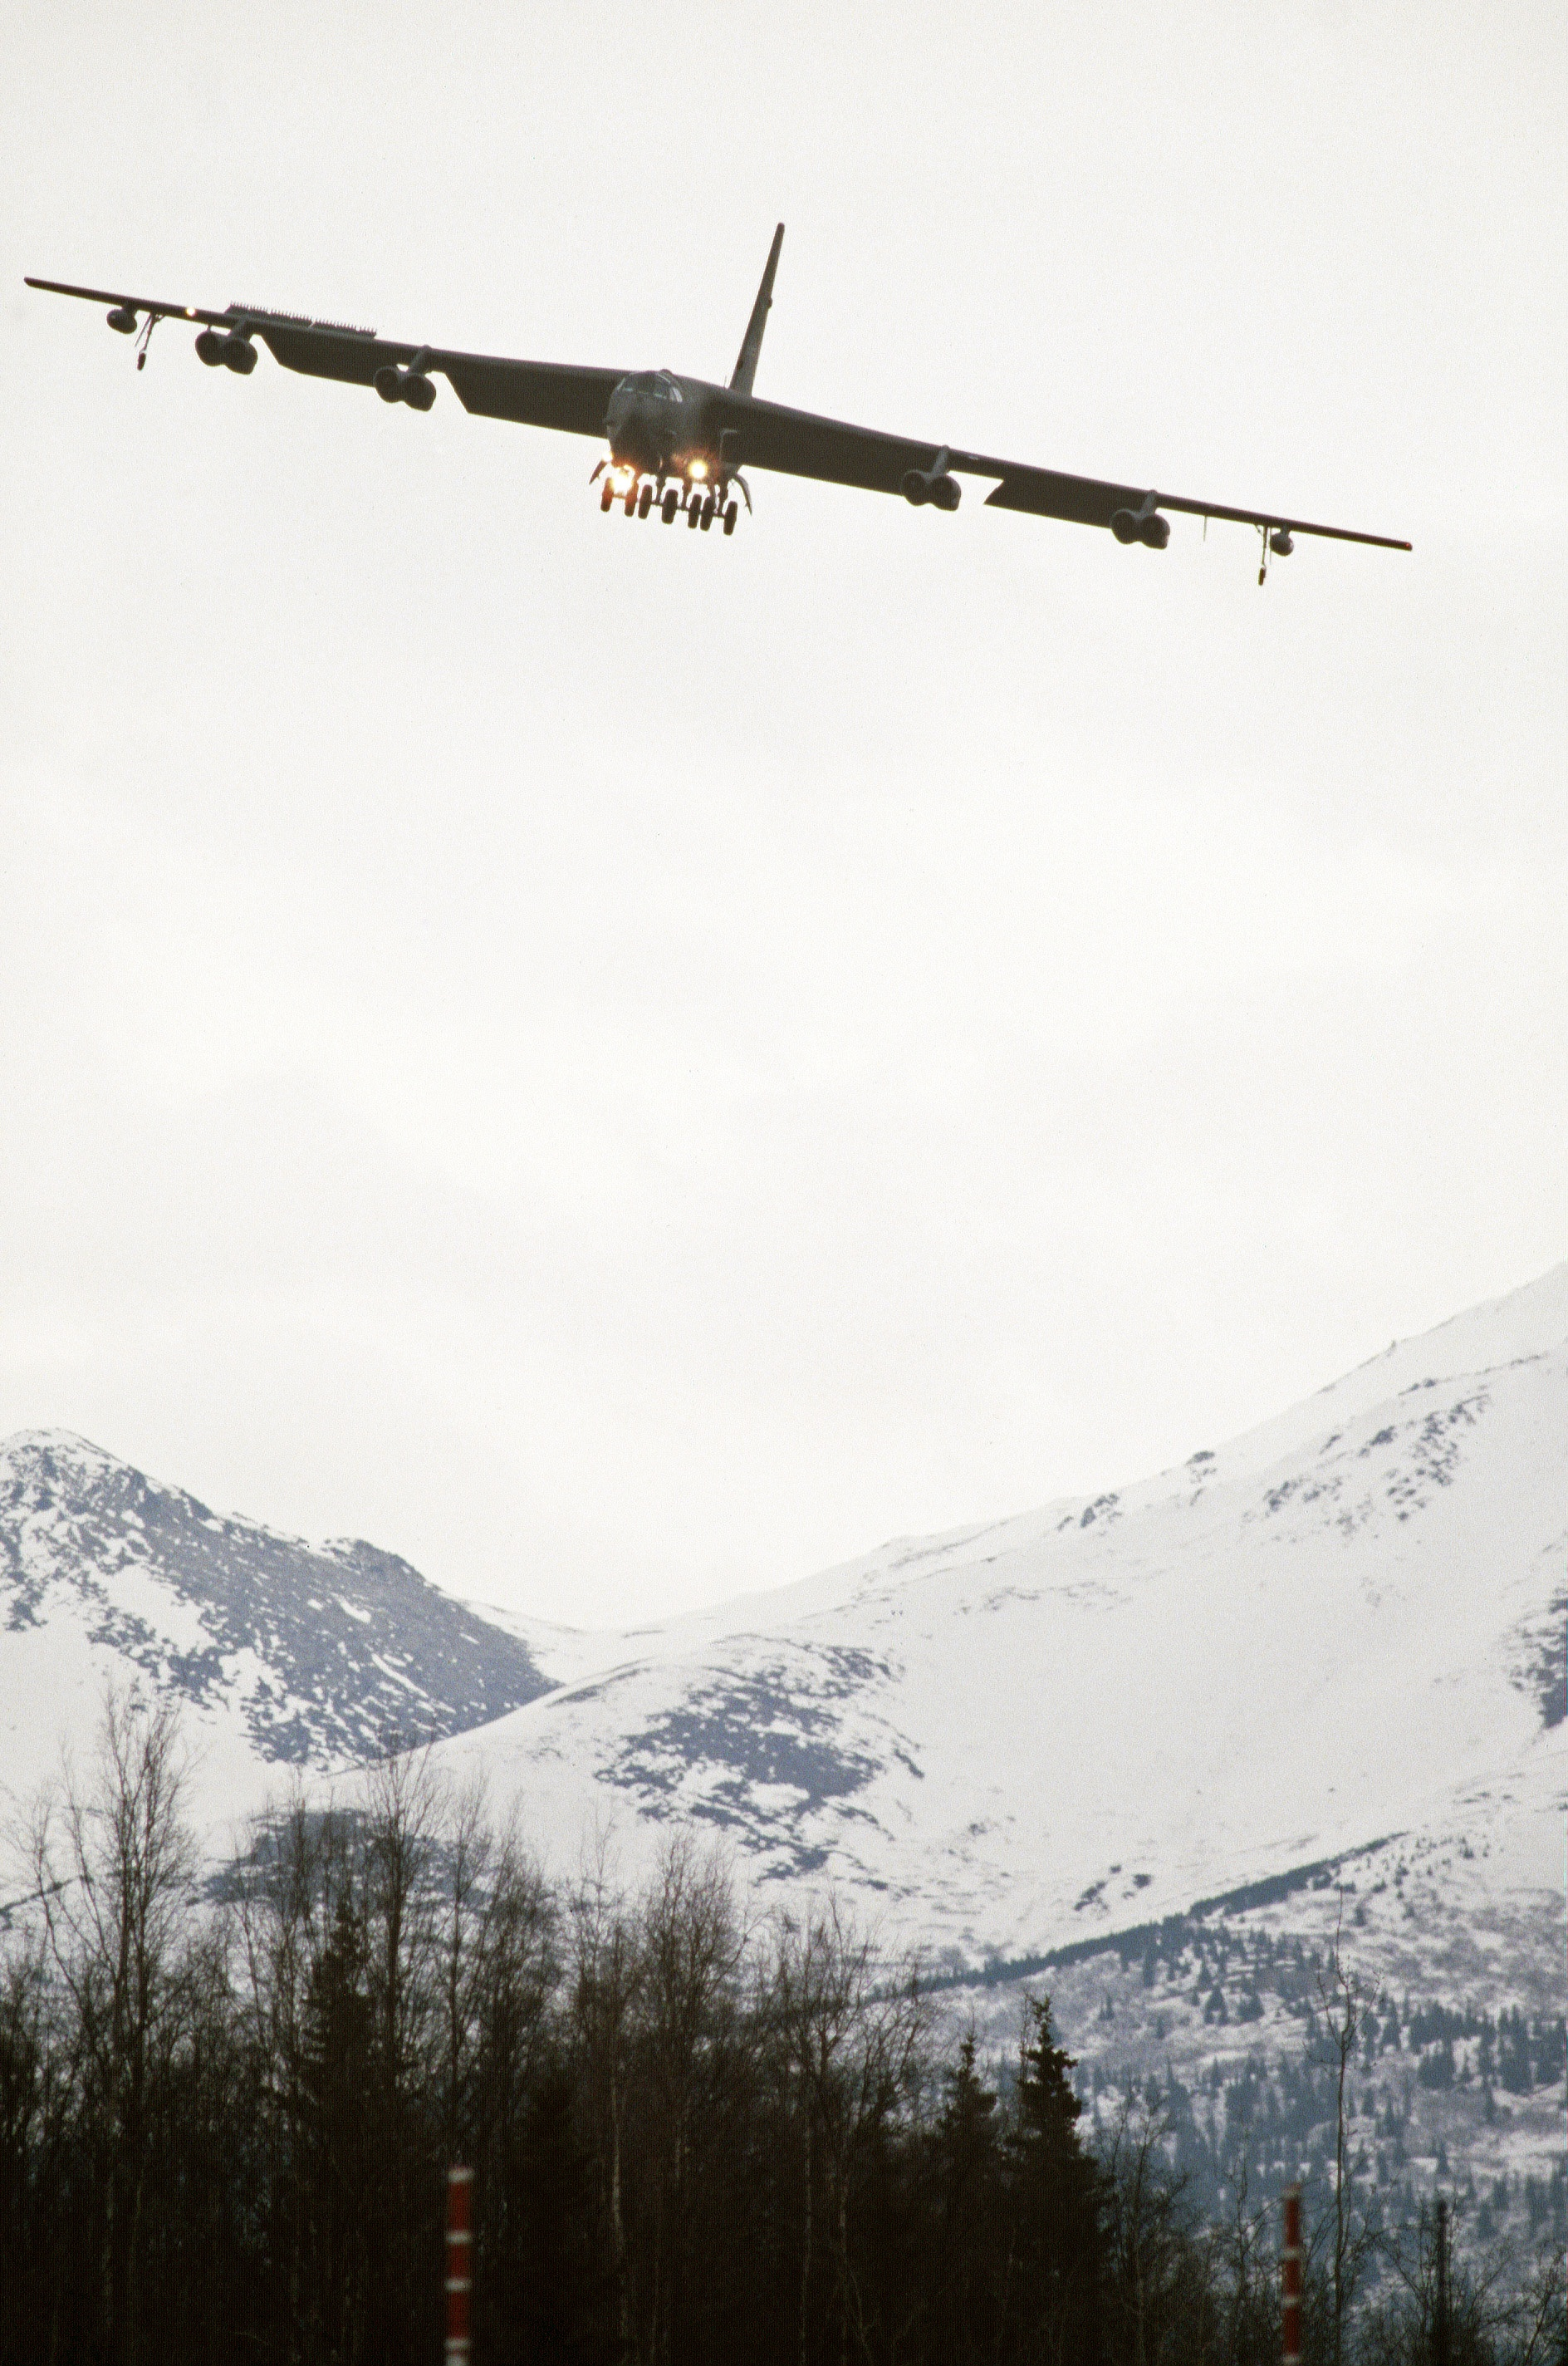B52: (23, 222, 1412, 586)
